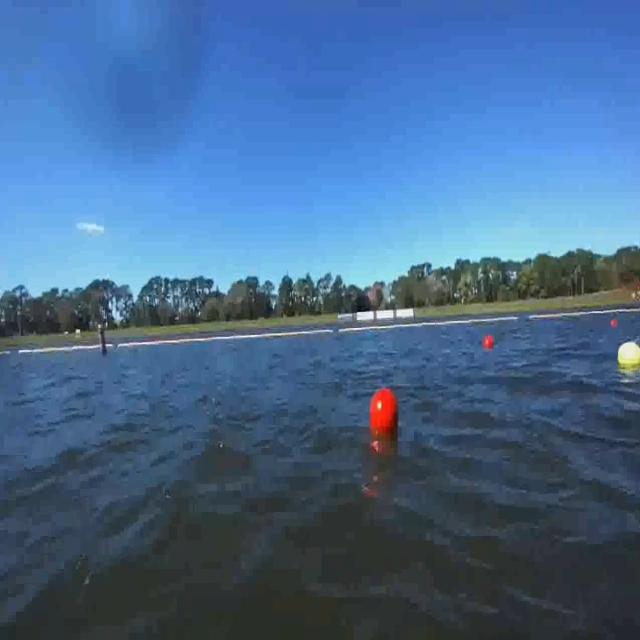red-buoy: (370, 389, 399, 436), (484, 336, 496, 352), (610, 320, 618, 327)
yellow-buoy: (618, 343, 640, 368)
